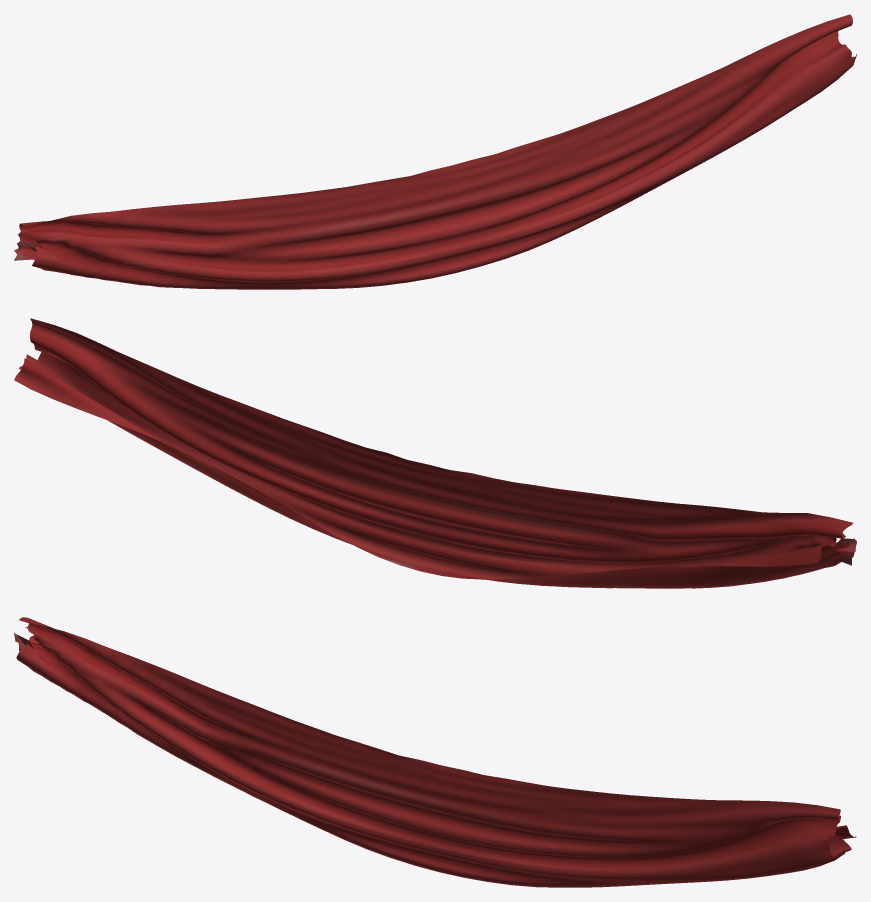
The model's file is PM_MainDrape.fbx.
The picture shows the model from 3 angles, top to bottom: view 1: azimuth 30°, elevation 25°; view 2: azimuth 150°, elevation 25°; view 3: azimuth 330°, elevation 25°; orthographic projection.
Parts seen in each view (by area): view 1: drape:pPlane9; view 2: drape:pPlane9; view 3: drape:pPlane9.
Boxes of the visible parts, left/top/right/bottom form: drape:pPlane9: left=14, top=14, right=856, bottom=289; drape:pPlane9: left=14, top=318, right=856, bottom=588; drape:pPlane9: left=14, top=617, right=856, bottom=887.
Bounding box in the file's own units: 6854 × 1228 × 464.
